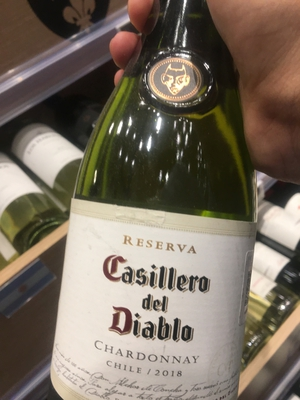casillero del diablo chardonnay: (53, 32, 257, 400)
